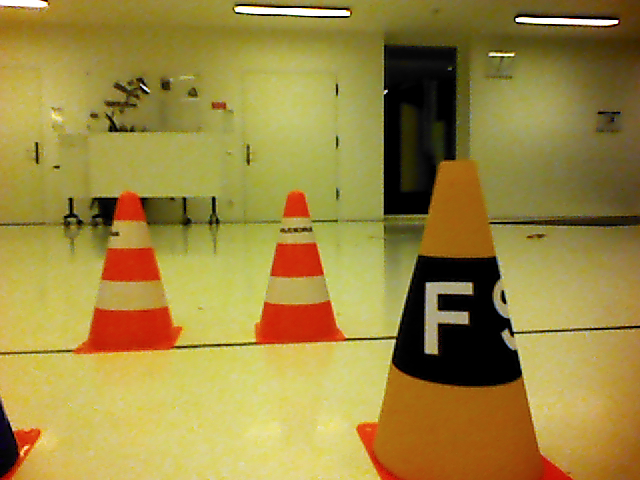yellowcone: (374, 160, 543, 480)
